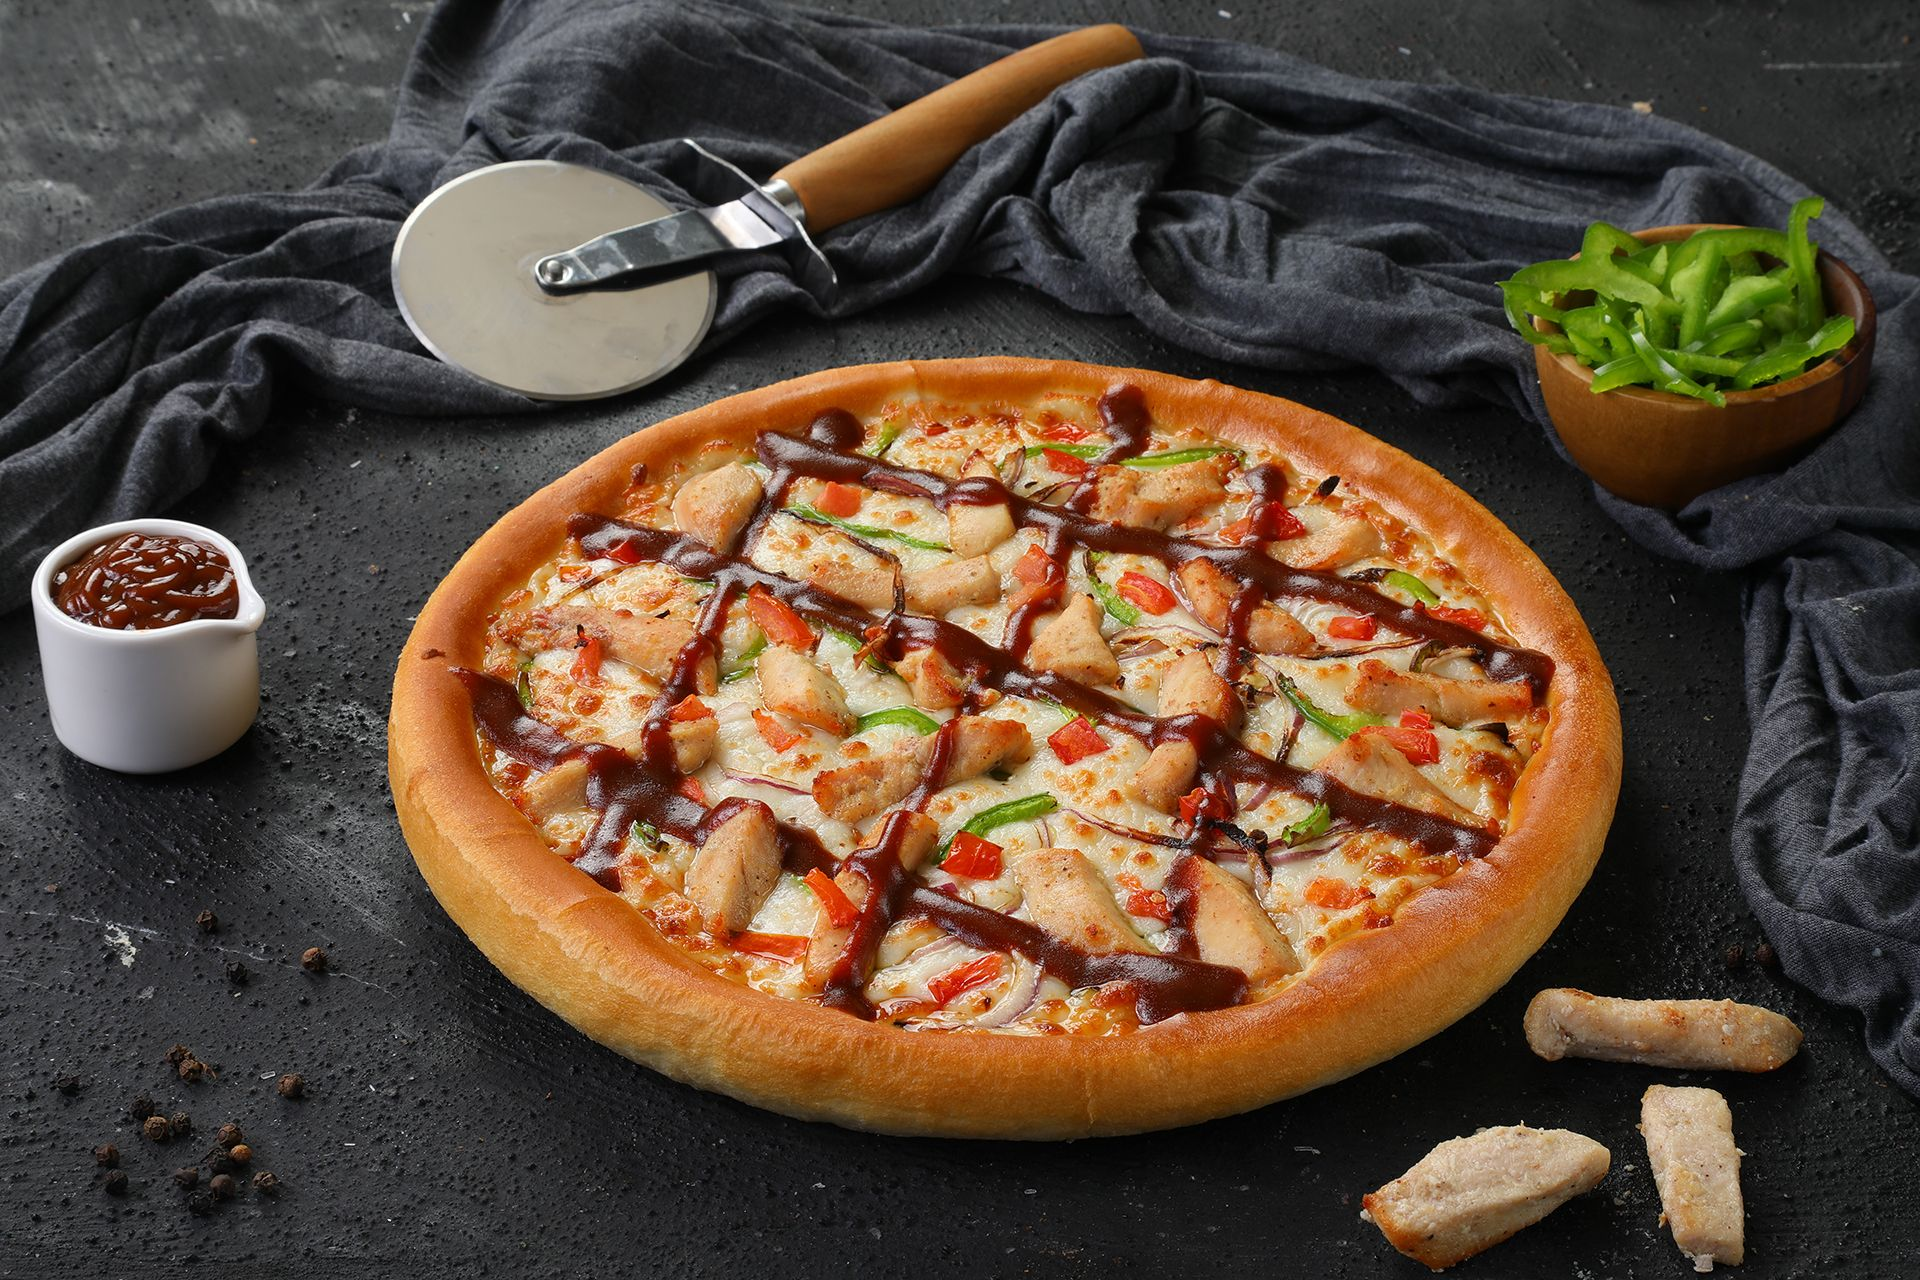Pizza: (386, 359, 1627, 1134)
